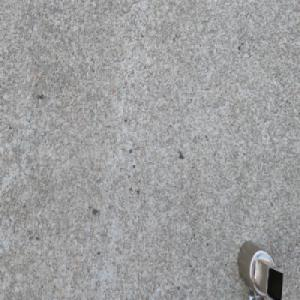MetalPart: (236, 236, 285, 300)
